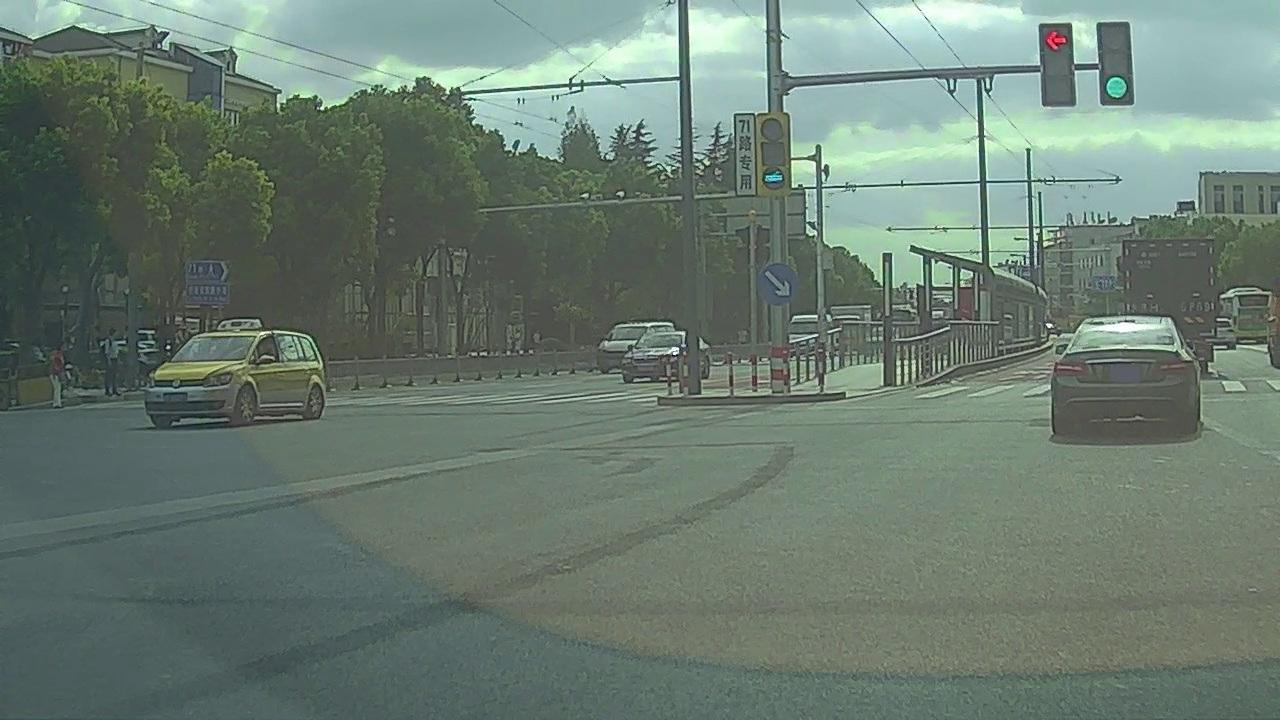traffic_light: (1097, 26, 1133, 102), (1039, 27, 1074, 104)
